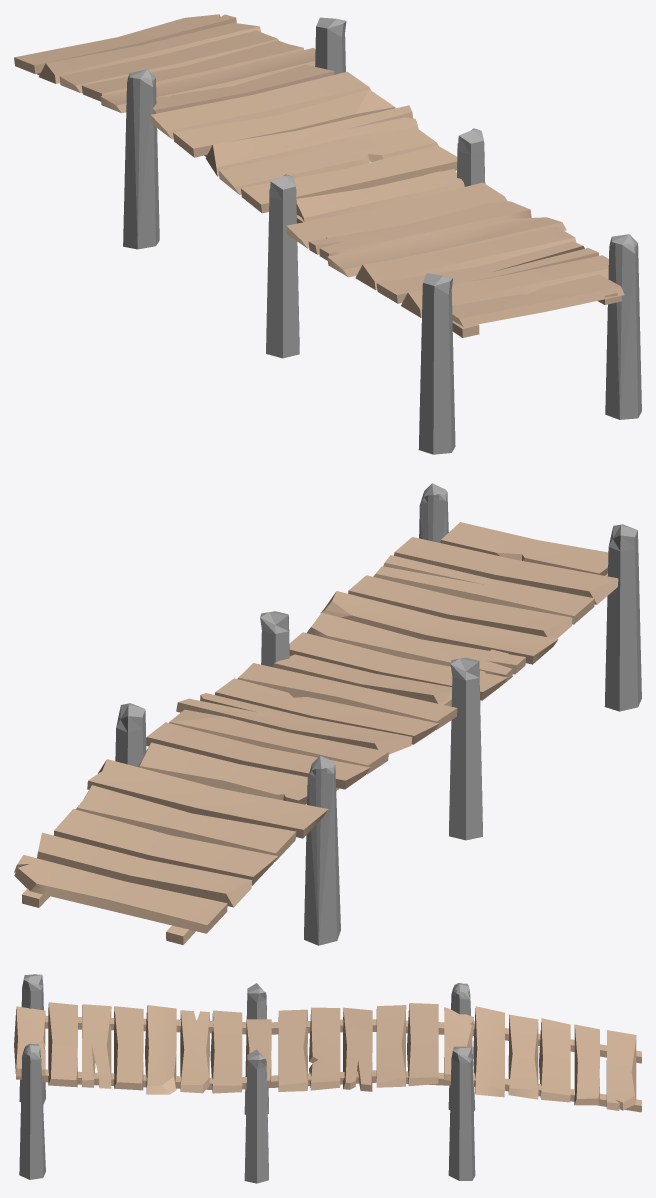
File: boat_ghat.fbx
The picture shows the model from 3 angles, top to bottom: view 1: azimuth 30°, elevation 25°; view 2: azimuth 150°, elevation 25°; view 3: azimuth 270°, elevation 25°; orthographic projection. The views are drawn at different scales.
Parts seen in each view (by area): view 1: polySurface1; view 2: polySurface1; view 3: polySurface1.
Boxes of the visible parts, box(x1,y1,x2,y2) form: polySurface1: box(14, 14, 641, 454); polySurface1: box(14, 483, 641, 945); polySurface1: box(14, 974, 641, 1183).
Size of the model in its own units: 372 by 298 by 1243.
2 materials, 1 textured.
